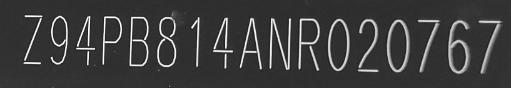letter: (476, 17, 505, 75), (415, 16, 441, 74), (446, 18, 472, 74), (296, 16, 321, 72), (355, 16, 379, 74), (238, 15, 263, 69), (326, 17, 351, 71), (386, 18, 411, 72), (20, 14, 46, 65), (268, 16, 291, 72), (99, 13, 122, 67), (211, 15, 234, 69), (127, 15, 150, 67), (155, 16, 178, 68), (75, 14, 96, 66), (48, 14, 69, 64), (187, 13, 203, 69)
